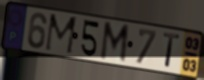5: (80, 18, 100, 58)
6: (26, 12, 48, 51)
7: (136, 27, 158, 67)
M: (43, 13, 80, 57), (98, 21, 131, 66)
T: (162, 31, 182, 70)
